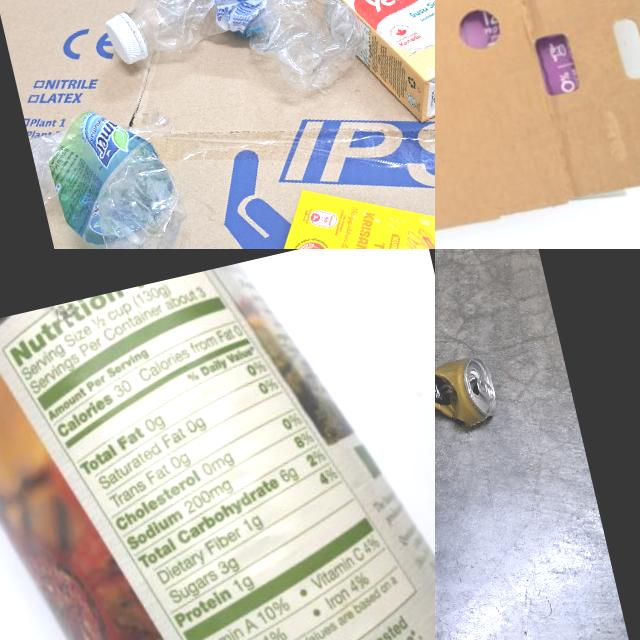aba de lata: (476, 376, 494, 402)
caixinha: (254, 138, 435, 249), (298, 0, 435, 142)
garrafa plástica: (126, 0, 367, 129), (25, 94, 198, 249)
lata: (0, 249, 435, 640), (435, 317, 502, 446)
papelão: (0, 0, 435, 249), (435, 0, 640, 249)
tampa plástica: (104, 11, 146, 67)
